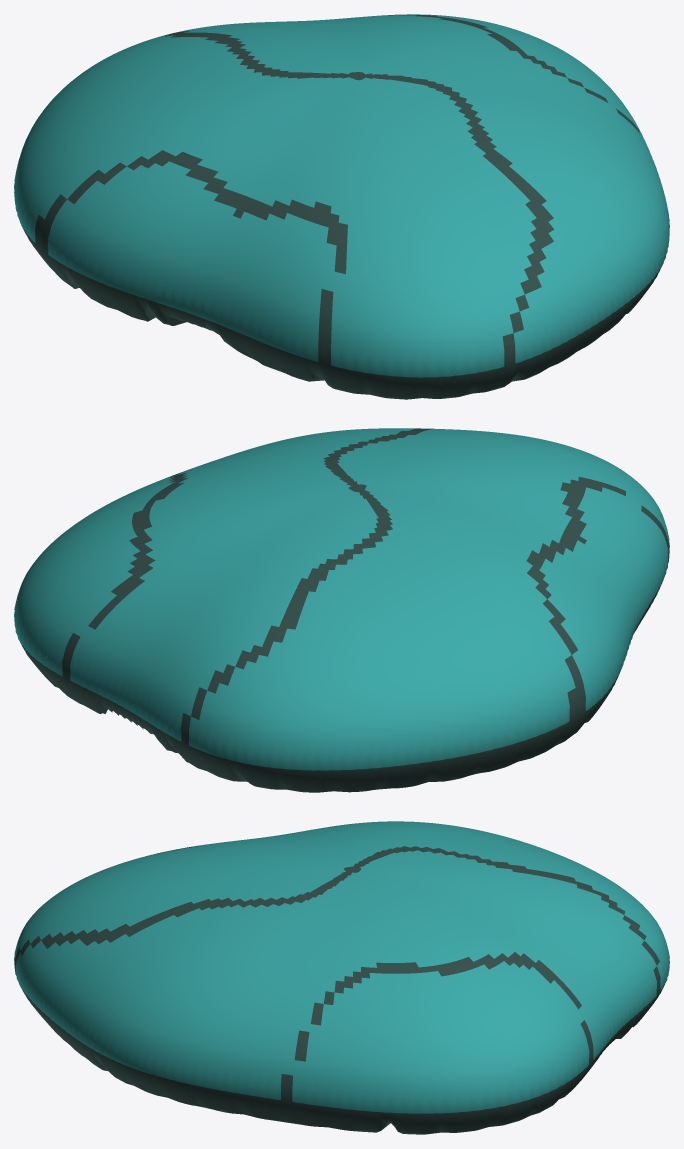
Rendered from jewelry.glb.
3 views of the same model, one above another, from view 1: azimuth 30°, elevation 25°; view 2: azimuth 150°, elevation 25°; view 3: azimuth 270°, elevation 25° (orthographic). The views are drawn at different scales.
Visible parts, largest first — view 1: Gemstone Turquoise; view 2: Gemstone Turquoise; view 3: Gemstone Turquoise.
Part boxes in pixels (<box>): Gemstone Turquoise: <box>14,14,669,399</box>; Gemstone Turquoise: <box>14,428,669,792</box>; Gemstone Turquoise: <box>14,821,669,1134</box>.
Bounding box in the file's own units: 2.04 × 0.5998 × 2.36.
